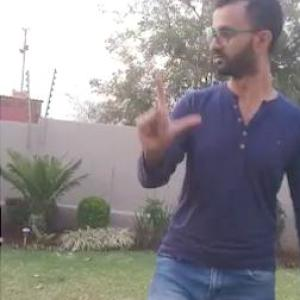land_hand: (131, 57, 204, 154)
